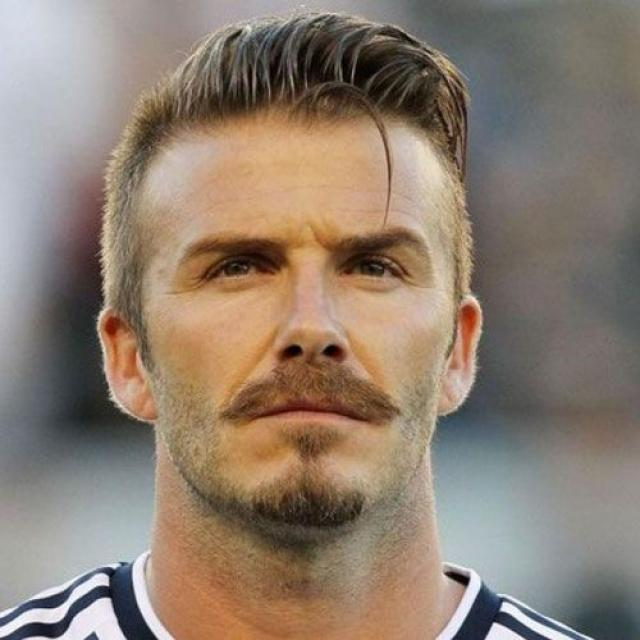beard: (187, 362, 401, 547)
hair: (123, 13, 470, 180)
